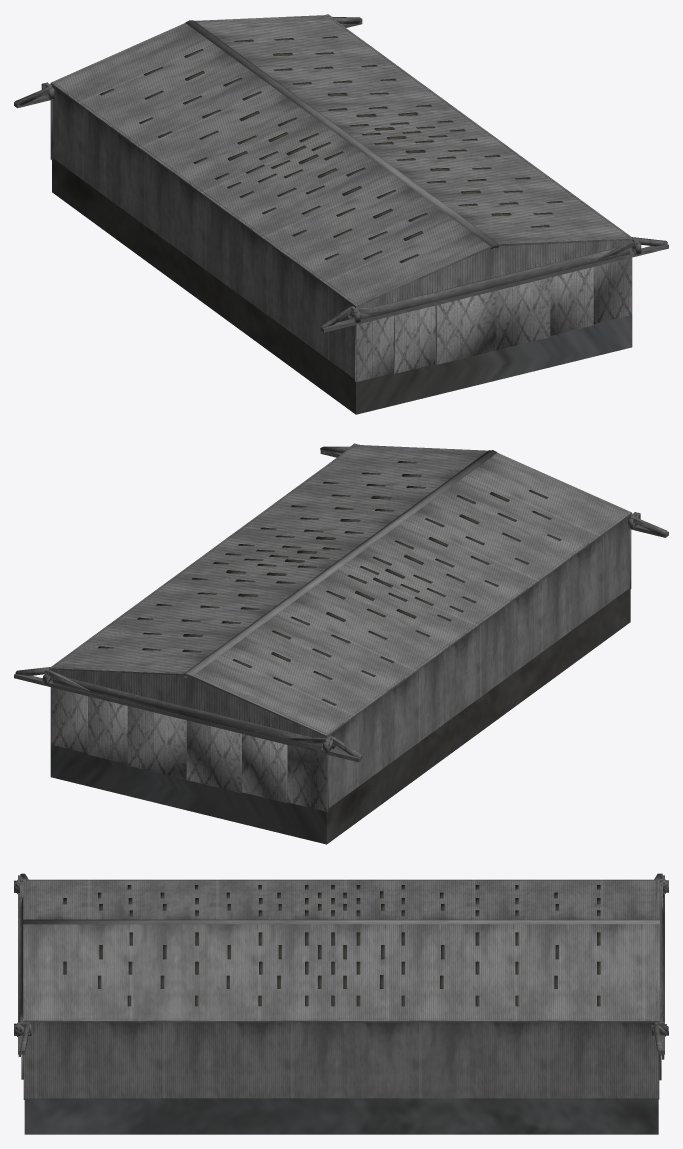
Rendered from Hangar2.fbx.
3 renders of one model, top to bottom at view 1: azimuth 30°, elevation 25°; view 2: azimuth 150°, elevation 25°; view 3: azimuth 270°, elevation 25°, orthographic. The views are drawn at different scales.
Visible parts, largest first — view 1: cube27; view 2: cube27; view 3: cube27.
Part boxes in pixels (box(x1,y1,x2,y2)): cube27: box(14, 14, 668, 414); cube27: box(14, 443, 668, 844); cube27: box(14, 873, 668, 1134).
Size of the model in its own units: 84.06 by 31.97 by 132.
Materials: 1 (1 with a texture image).
